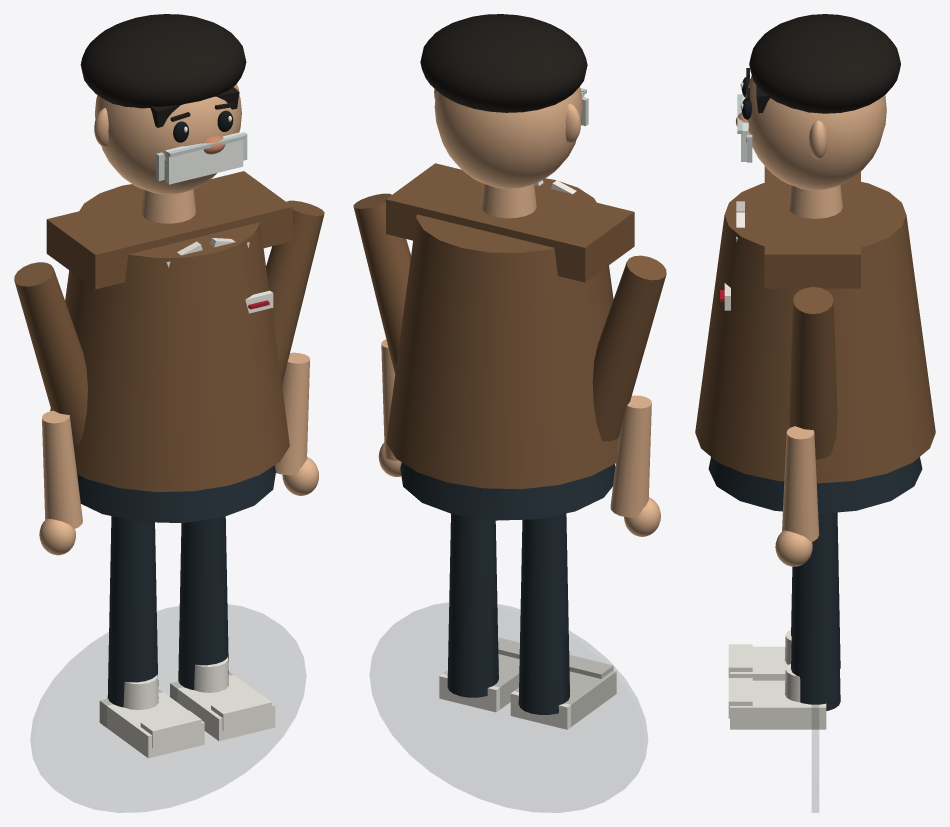
Rendered from staff_10_manager.glb.
The picture shows the model from 3 angles, left to right: view 1: azimuth 30°, elevation 25°; view 2: azimuth 150°, elevation 25°; view 3: azimuth 270°, elevation 25°; orthographic projection. The views are drawn at different scales.
Parts seen in each view (by area): view 1: torso, contact_shadow, shoulder_line, hair_cap, leg_-0.075, leg_0.075, upper_arm_-0.235, head, hip, upper_arm_0.235, forearm_-0.235, shoe_-0.075 (+10 smaller); view 2: torso, contact_shadow, hair_cap, shoulder_line, leg_-0.075, head, leg_0.075, upper_arm_-0.235, hip, upper_arm_0.235, forearm_-0.235, shoe_-0.075 (+5 smaller); view 3: torso, hair_cap, head, shoulder_line, leg_0.075, upper_arm_0.235, hip, forearm_0.235, shoe_0.075, neck, shoe_-0.075, contact_shadow (+5 smaller).
Boxes of the visible parts, box(x1,y1,x2,y2) form: torso: box(50, 184, 289, 491); contact_shadow: box(31, 605, 305, 812); shoulder_line: box(46, 171, 292, 289); hair_cap: box(80, 14, 246, 108); leg_-0.075: box(107, 516, 158, 707); leg_0.075: box(178, 516, 228, 689); upper_arm_-0.235: box(14, 262, 87, 446); head: box(95, 84, 241, 194); hip: box(77, 465, 275, 523); upper_arm_0.235: box(266, 200, 324, 384); forearm_-0.235: box(42, 410, 82, 529); shoe_-0.075: box(99, 689, 204, 758); torso: box(386, 178, 619, 489); contact_shadow: box(370, 603, 647, 812); hair_cap: box(420, 14, 587, 112); shoulder_line: box(386, 163, 634, 282); leg_-0.075: box(518, 513, 569, 714); head: box(434, 87, 582, 188); leg_0.075: box(447, 513, 498, 697); upper_arm_-0.235: box(592, 255, 666, 441); hip: box(400, 462, 615, 520); upper_arm_0.235: box(353, 193, 410, 373); forearm_-0.235: box(610, 395, 651, 517); shoe_-0.075: box(510, 670, 616, 729); torso: box(695, 182, 935, 483); hair_cap: box(749, 14, 900, 113); head: box(745, 75, 886, 190); shoulder_line: box(764, 166, 860, 288); leg_0.075: box(791, 512, 840, 710); upper_arm_0.235: box(789, 287, 837, 459); hip: box(708, 457, 922, 513); forearm_0.235: box(782, 426, 819, 541); shoe_0.075: box(730, 680, 826, 729); neck: box(788, 185, 842, 218); shoe_-0.075: box(730, 646, 787, 680); contact_shadow: box(812, 635, 818, 812).
Bounding box in the file's own units: 0.6685 × 1.62 × 0.4635.
